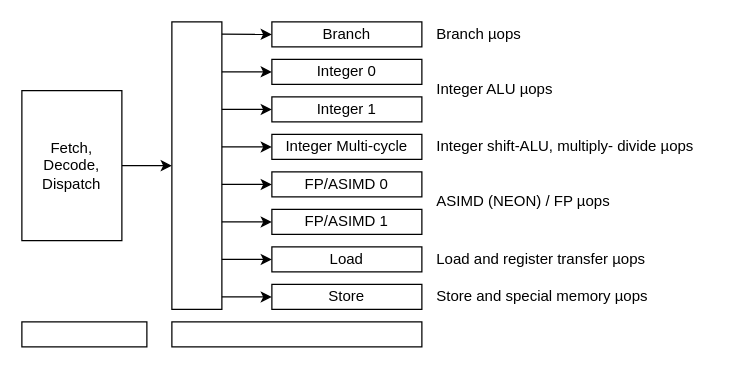
Image size: 744x369. Some labels were removed from this diagram. Each missing label, with the box of its shape:
IN ORDER: (21, 321, 147, 347)
Issue: (171, 21, 222, 309)
OUT OF ORDER: (171, 321, 422, 347)
